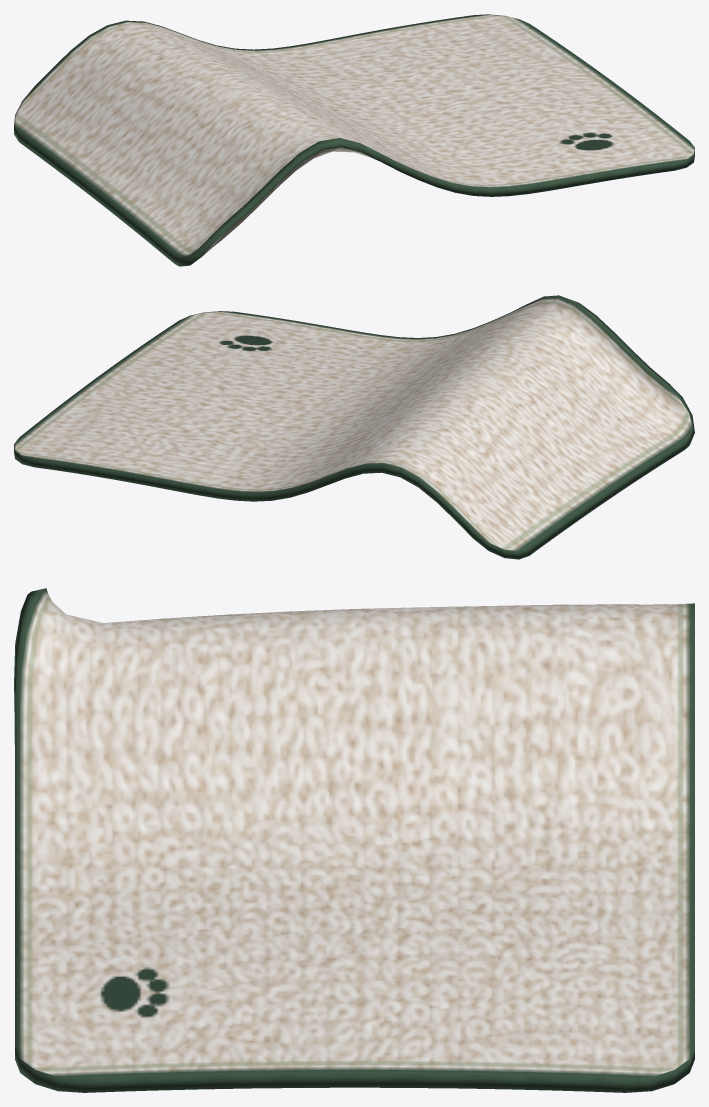
File: PatternTowel.fbx
3 renders of one model, top to bottom at view 1: azimuth 30°, elevation 25°; view 2: azimuth 150°, elevation 25°; view 3: azimuth 270°, elevation 25°, orthographic. The views are drawn at different scales.
Parts seen in each view (by area): view 1: PatternTowel_Mesh; view 2: PatternTowel_Mesh; view 3: PatternTowel_Mesh.
Boxes of the visible parts, <box> form: PatternTowel_Mesh: <box>14,14,694,266</box>; PatternTowel_Mesh: <box>14,295,694,559</box>; PatternTowel_Mesh: <box>14,588,694,1092</box>.
Bounding box in the file's own units: 0.33 × 0.0691 × 0.2253.
